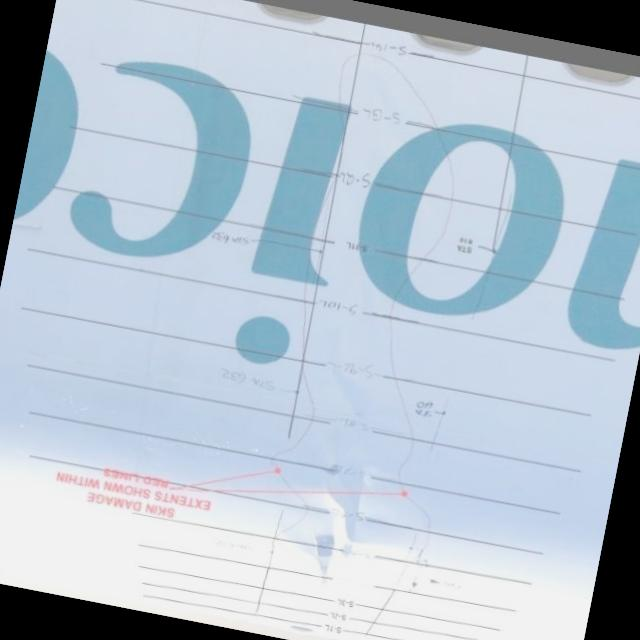dent: (255, 56, 452, 589)
